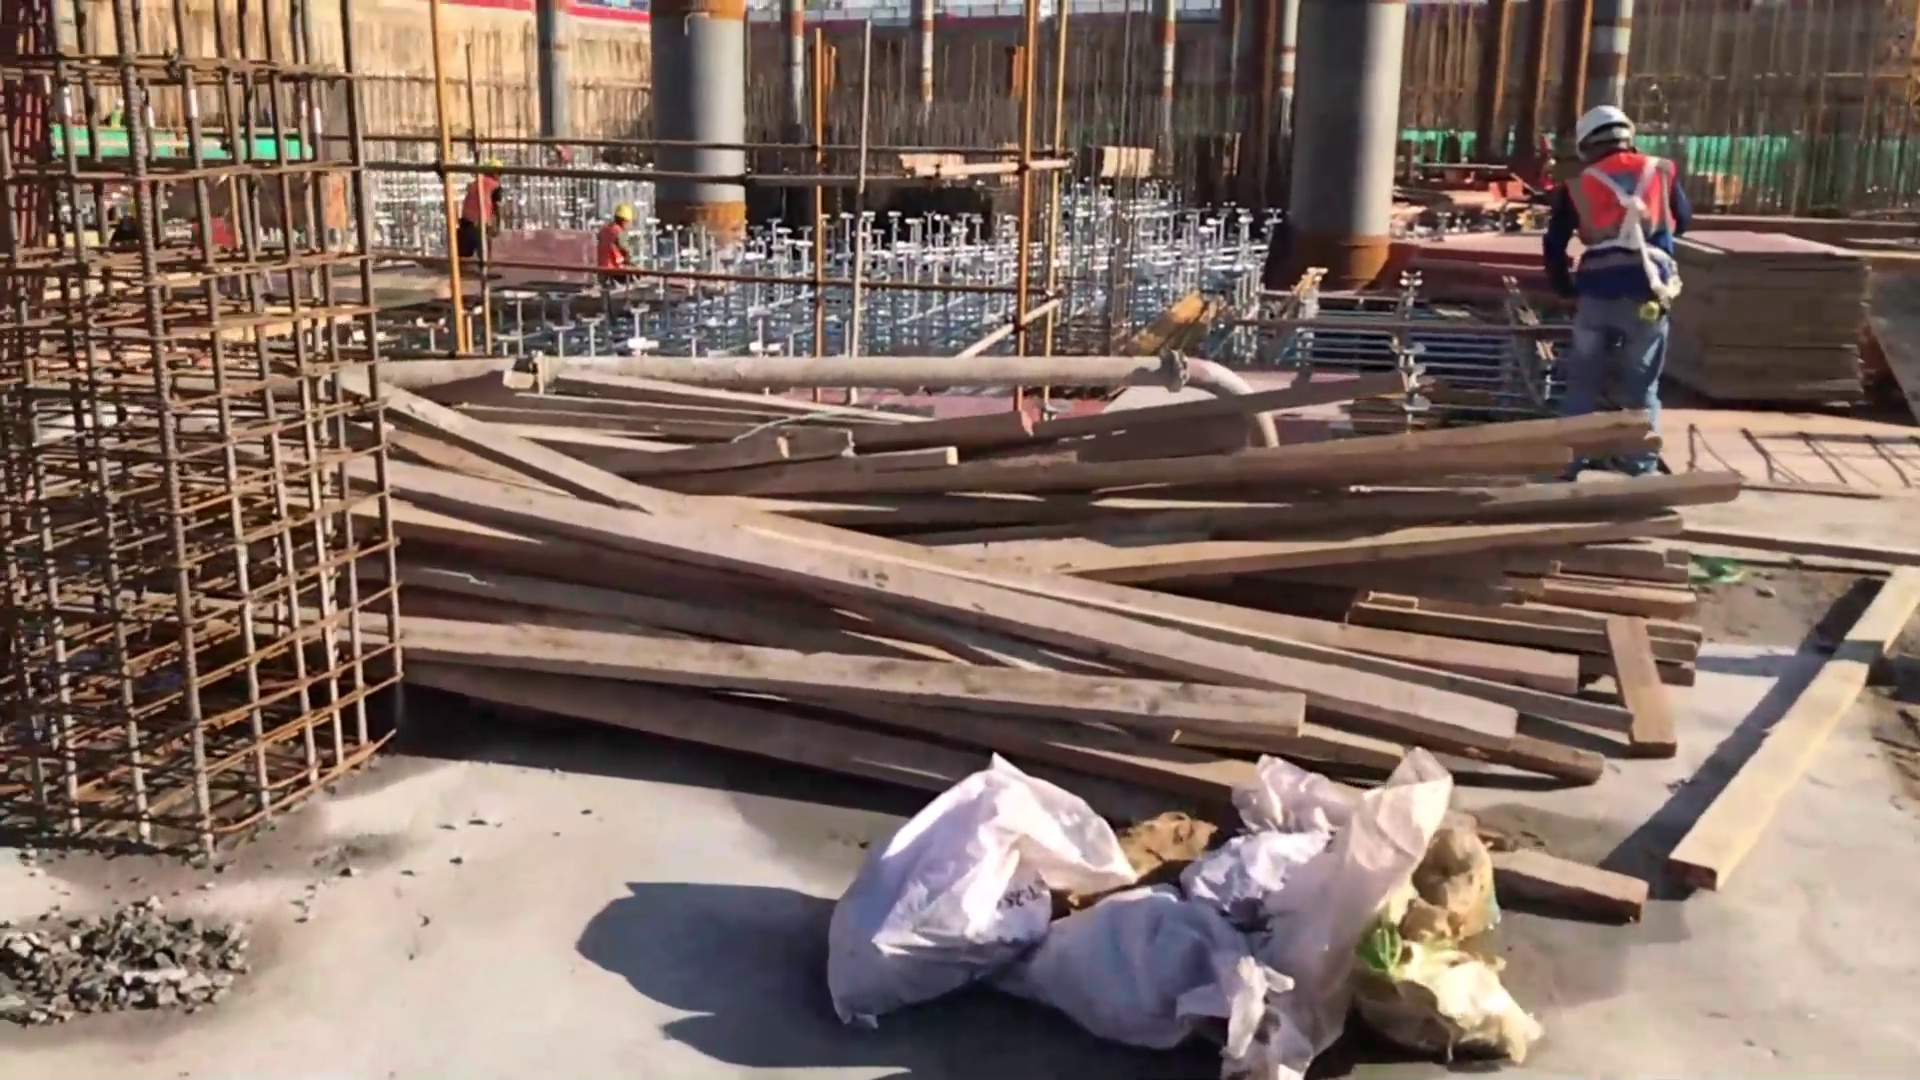helmet: (1574, 104, 1635, 148)
person: (1546, 104, 1693, 431), (463, 154, 502, 250), (597, 200, 638, 289)
vest: (1556, 154, 1685, 299)
